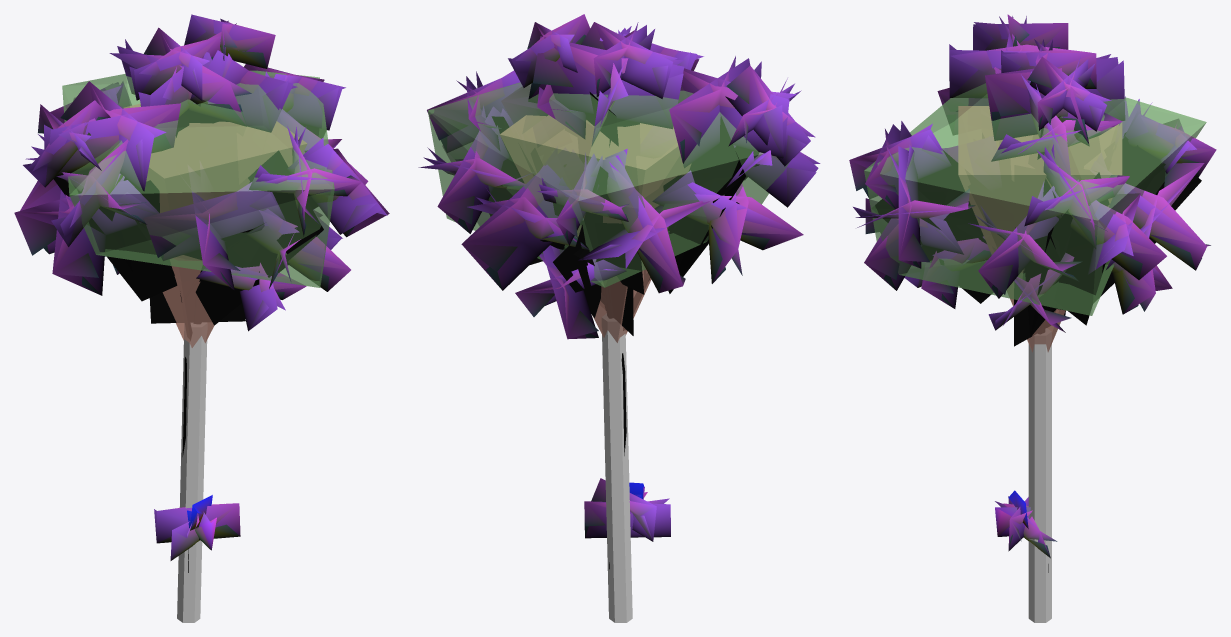
File: holm_oak_filler_center.dae
3 views of the same model, side by side, from view 1: azimuth 30°, elevation 25°; view 2: azimuth 150°, elevation 25°; view 3: azimuth 270°, elevation 25° (orthographic). The views are drawn at different scales.
Parts seen in each view (by area): view 1: Colmesh-1, holm_oak_filler_center_b2000, holm_oak_filler_center_b1000, holm_oak_filler_center_b400; view 2: Colmesh-1, holm_oak_filler_center_b2000, holm_oak_filler_center_b1000, holm_oak_filler_center_b400; view 3: Colmesh-1, holm_oak_filler_center_b2000, holm_oak_filler_center_b400, holm_oak_filler_center_b1000.
Part boxes in pixels (left/top/right/bottom): Colmesh-1: left=62, top=70, right=334, bottom=622; holm_oak_filler_center_b2000: left=14, top=14, right=388, bottom=572; holm_oak_filler_center_b1000: left=15, top=14, right=389, bottom=569; holm_oak_filler_center_b400: left=20, top=20, right=381, bottom=537; Colmesh-1: left=428, top=82, right=790, bottom=622; holm_oak_filler_center_b2000: left=418, top=14, right=820, bottom=569; holm_oak_filler_center_b1000: left=423, top=14, right=802, bottom=567; holm_oak_filler_center_b400: left=427, top=22, right=818, bottom=564; Colmesh-1: left=864, top=83, right=1206, bottom=622; holm_oak_filler_center_b2000: left=849, top=14, right=1215, bottom=558; holm_oak_filler_center_b400: left=849, top=16, right=1216, bottom=572; holm_oak_filler_center_b1000: left=856, top=67, right=1206, bottom=555.
Bounding box in the file's own units: 9.2 × 8.74 × 15.2.
